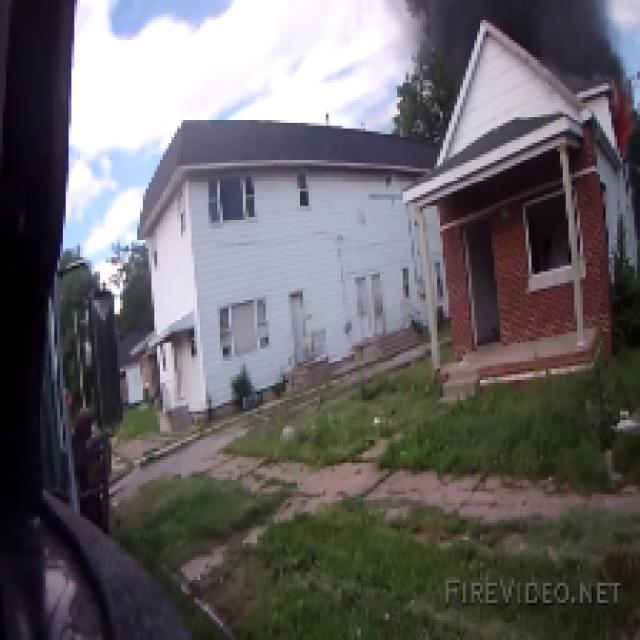Smoke: (385, 0, 640, 134)
